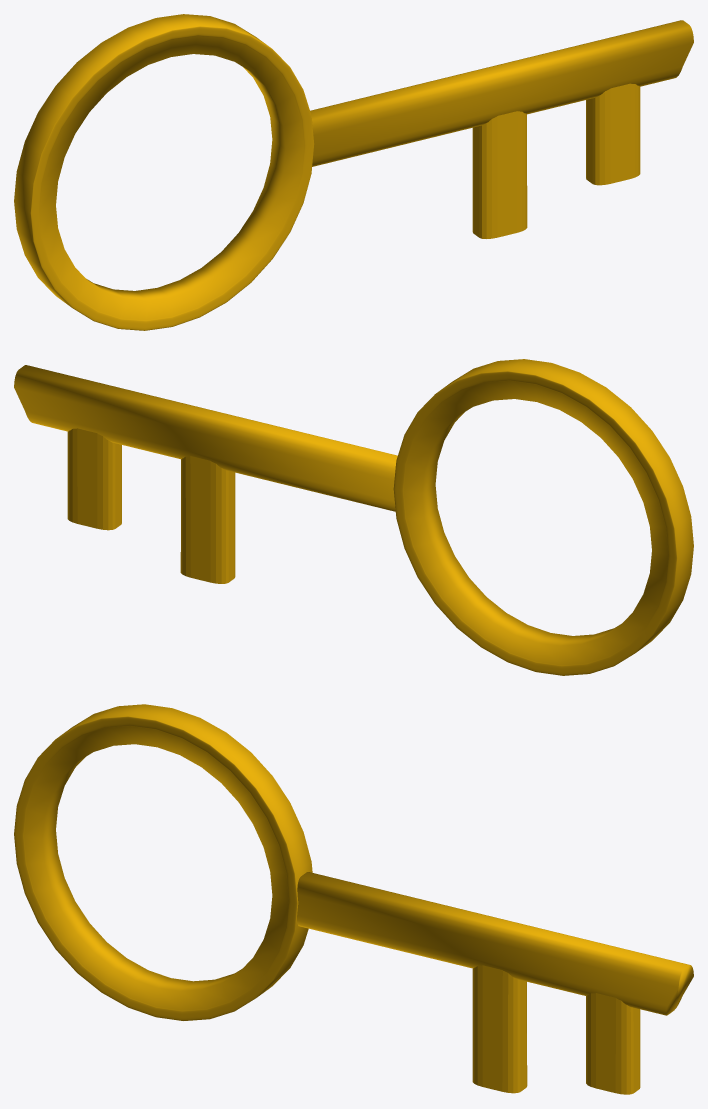
The model's file is key.fbx.
3 renders of one model, top to bottom at view 1: azimuth 30°, elevation 25°; view 2: azimuth 150°, elevation 25°; view 3: azimuth 330°, elevation 25°, orthographic.
Visible parts, largest first — view 1: Cube; view 2: Cube; view 3: Cube.
Boxes of the visible parts, left/top/right/bottom form: Cube: left=14, top=14, right=693, bottom=330; Cube: left=14, top=359, right=693, bottom=675; Cube: left=14, top=704, right=693, bottom=1094.
Bounding box in the file's own units: 402 × 172 × 17.72.
